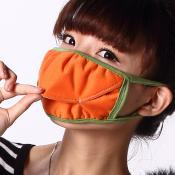OK: (36, 9, 152, 125)
